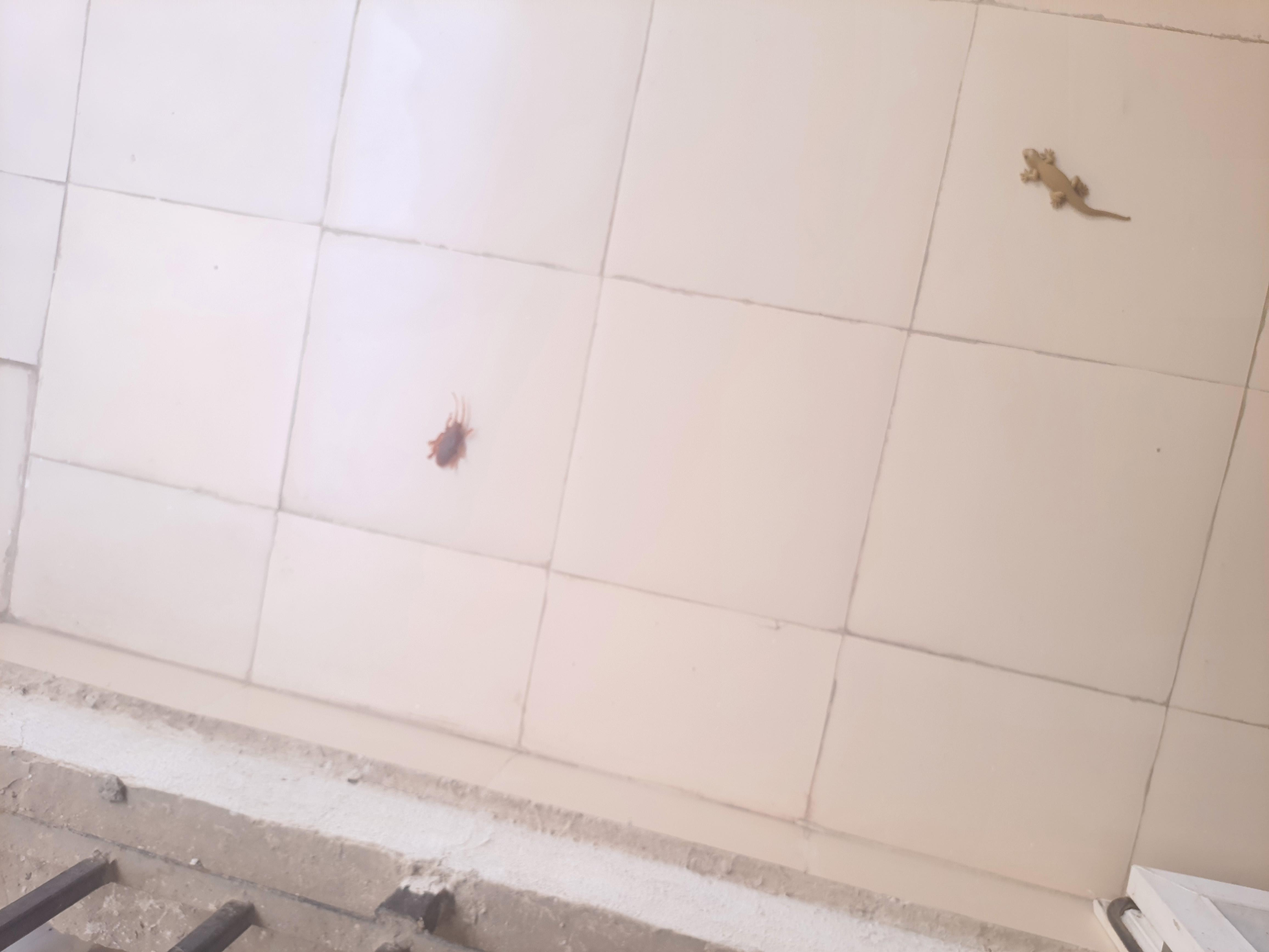cockroach: (612, 310, 725, 356)
lizard: (978, 758, 1069, 847)
